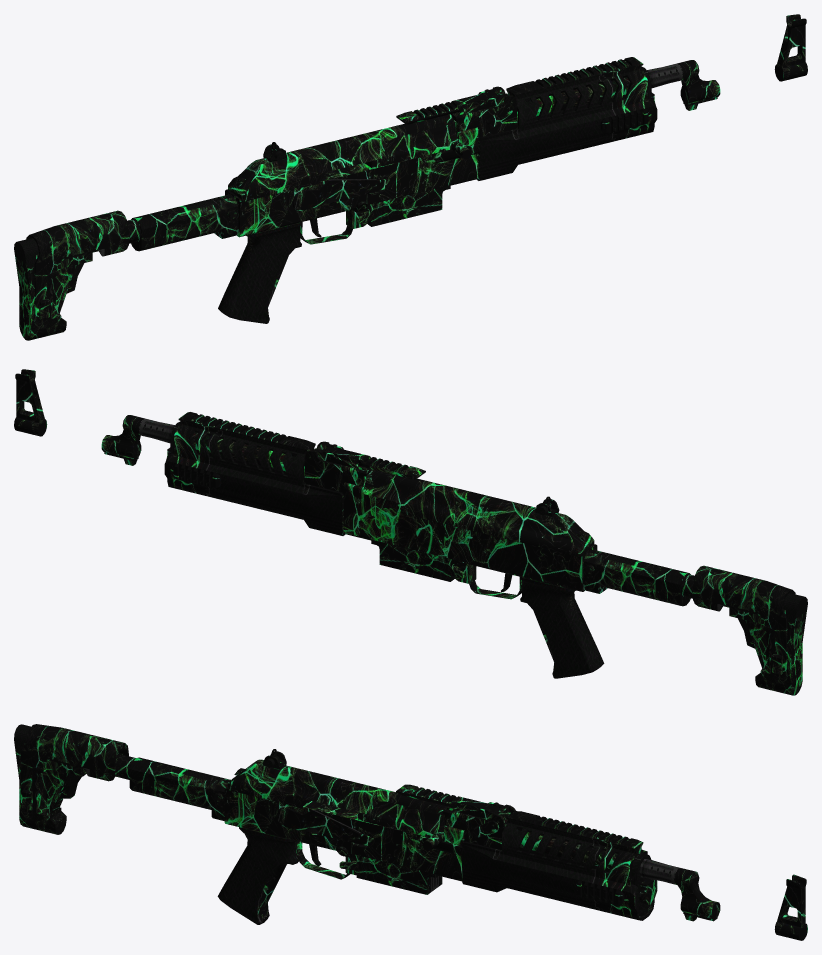
File: assaultriflemk2_ag.glb
The picture shows the model from 3 angles, top to bottom: view 1: azimuth 30°, elevation 25°; view 2: azimuth 150°, elevation 25°; view 3: azimuth 330°, elevation 25°; orthographic projection.
Visible parts, largest first — view 1: Gun_Root; view 2: Gun_Root; view 3: Gun_Root.
Boxes of the visible parts, <box> form: Gun_Root: <box>14,14,807,340</box>; Gun_Root: <box>14,369,807,695</box>; Gun_Root: <box>14,724,807,940</box>.
Bounding box in the file's own units: 0.873 × 0.1873 × 0.0659.
2 materials, 2 textured.
